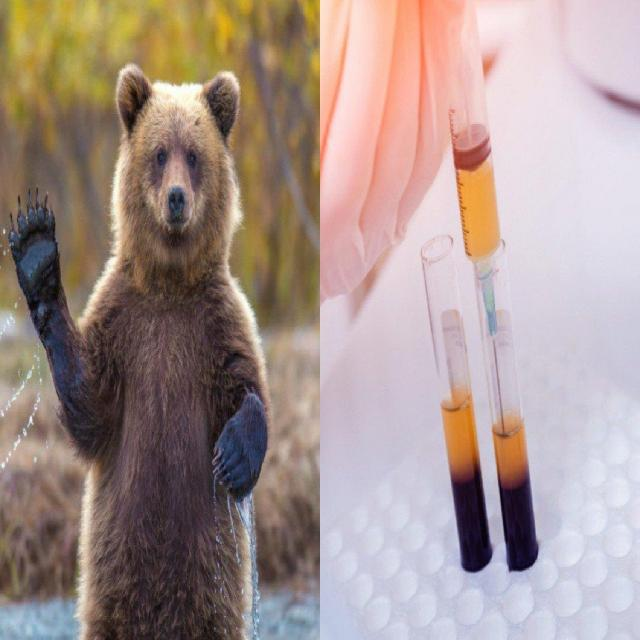Bear: (8, 64, 271, 640)
